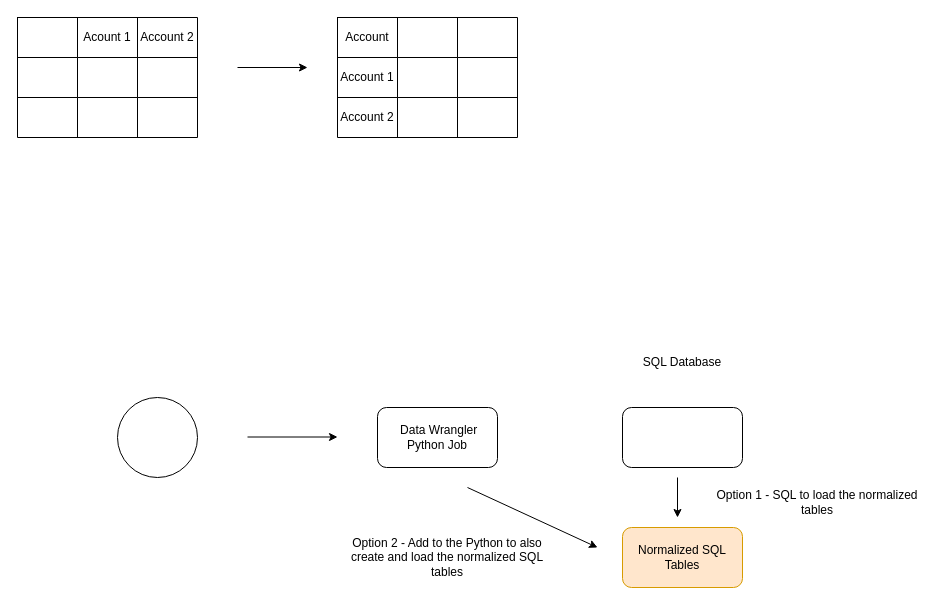
The diagram is 945 pixels wide and 605 high, and some of its shapes have lost their labels. Here are the shapes that lost their labels. From the top down, the box of each, then its label:
(116, 396, 198, 478): Facset Files in CSV
(622, 406, 742, 468): RAW SQL Tables
